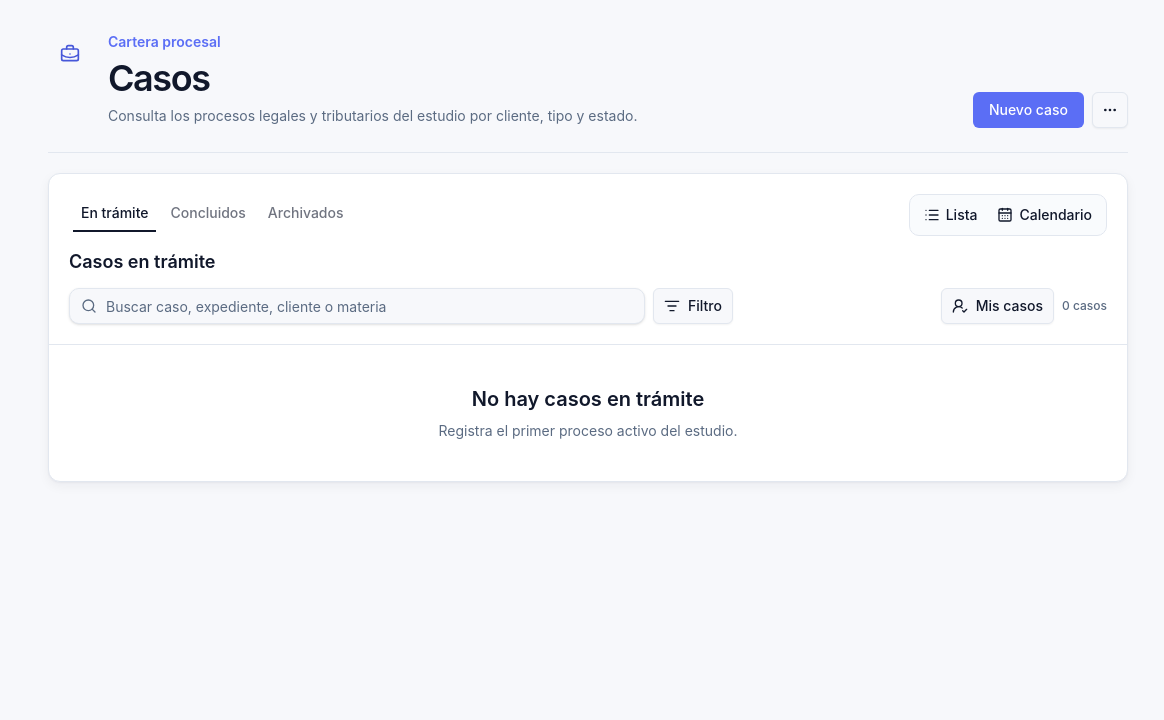
Test case: CasesPage › uses lifecycle tabs and keeps the selected view in the URL
The width and height of the screenshot is (1164, 720).
Check: the tab "En trámite" is shown, box [72,198,158,228]
Check: the tab "Archivados" is shown, box [259,198,352,228]
Press the mouse on the tab "Concluidos": (208, 213) [162,198,255,228]
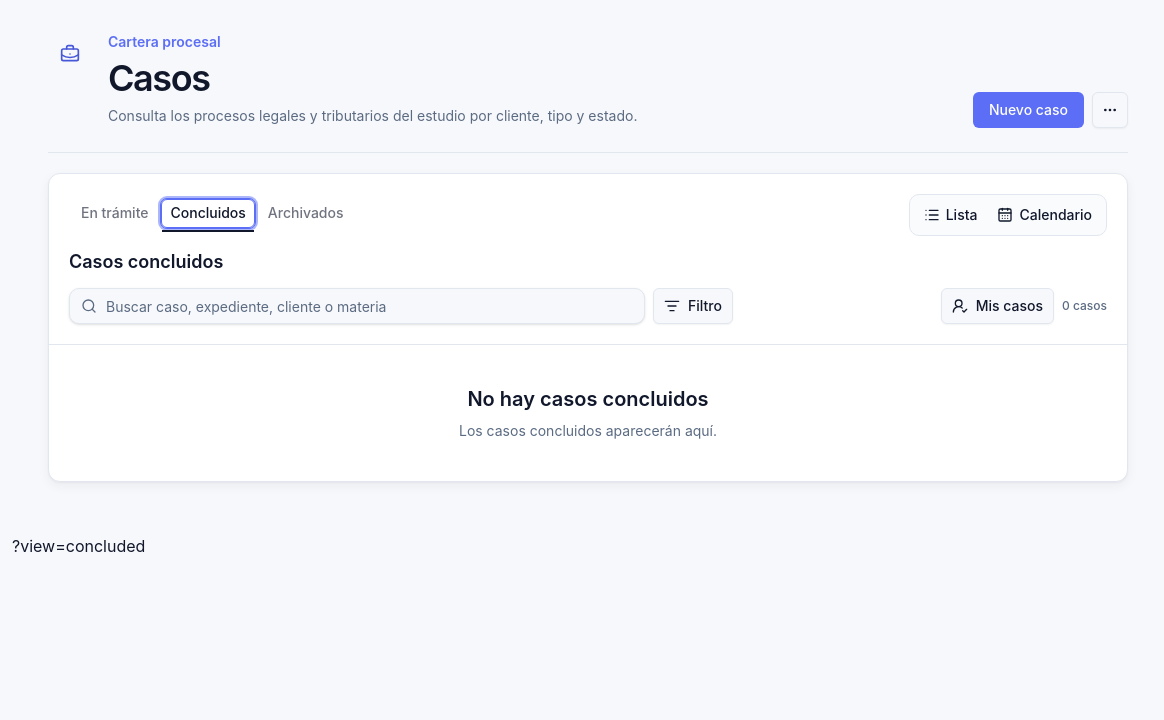
Check: the text named "URL actual" reads "?view=concluded", box [12,536,145,556]
